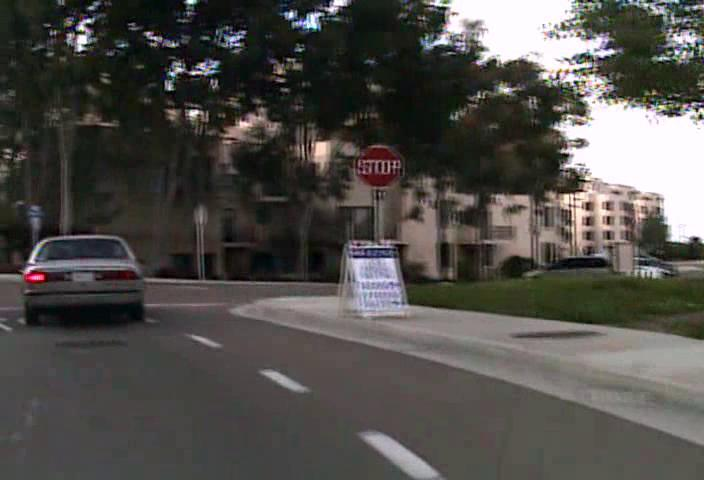stop: (353, 143, 404, 188)
